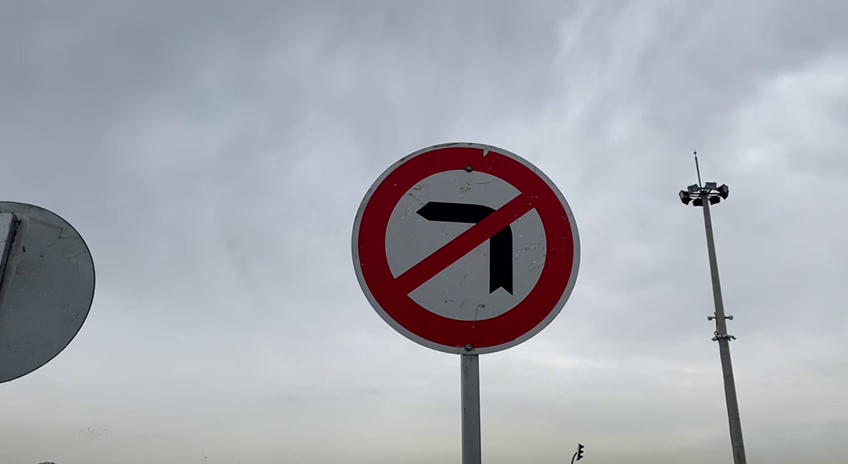noTurnLeft: (345, 136, 586, 359)
